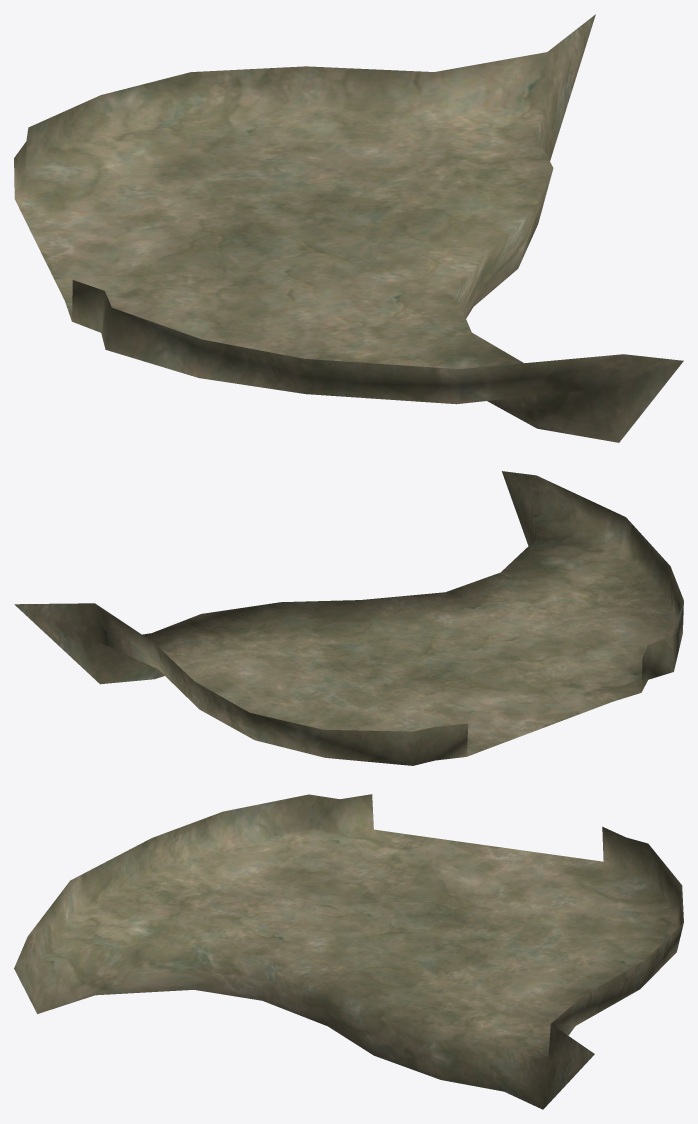
The model's file is EKH_CAVERNS_PS_CA_PLATFORM_9031.fbx.
The picture shows the model from 3 angles, top to bottom: view 1: azimuth 30°, elevation 25°; view 2: azimuth 150°, elevation 25°; view 3: azimuth 270°, elevation 25°; orthographic projection. The views are drawn at different scales.
Visible parts, largest first — view 1: EKH_CAVERNS_PS_CA_PLATFORM_9031; view 2: EKH_CAVERNS_PS_CA_PLATFORM_9031; view 3: EKH_CAVERNS_PS_CA_PLATFORM_9031.
Part boxes in pixels (box(x1,y1,x2,y2)): EKH_CAVERNS_PS_CA_PLATFORM_9031: box(14, 14, 683, 442); EKH_CAVERNS_PS_CA_PLATFORM_9031: box(14, 471, 683, 765); EKH_CAVERNS_PS_CA_PLATFORM_9031: box(14, 794, 683, 1109).
Size of the model in its own units: 70393 by 11022 by 74738.
Materials: 1 (1 with a texture image).
